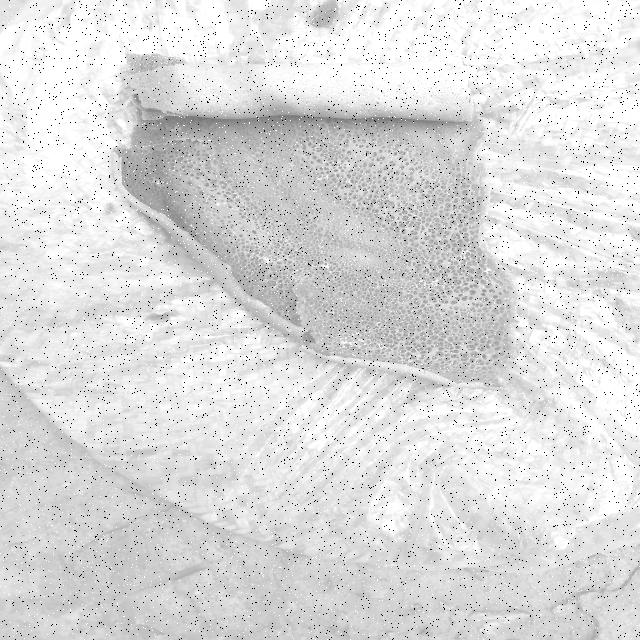injera_mold: (334, 334, 354, 351), (418, 278, 446, 290), (458, 246, 474, 266), (317, 261, 337, 275), (371, 321, 389, 335), (334, 161, 351, 175), (256, 254, 272, 267), (292, 269, 308, 282), (379, 347, 395, 360), (355, 337, 371, 349), (148, 176, 165, 187), (483, 262, 494, 278), (408, 352, 422, 364), (280, 238, 296, 247), (170, 124, 185, 132), (304, 328, 318, 336), (284, 162, 296, 171), (428, 355, 436, 368), (213, 199, 224, 208), (359, 352, 370, 361), (318, 174, 330, 182), (335, 350, 350, 356), (424, 100, 434, 108), (285, 327, 295, 334), (474, 346, 487, 351), (392, 328, 400, 336), (318, 243, 327, 250), (327, 310, 337, 316), (482, 354, 492, 359), (501, 361, 508, 368), (355, 226, 366, 230), (188, 223, 195, 229), (399, 249, 405, 255), (173, 190, 182, 194), (285, 313, 294, 317), (488, 381, 494, 386), (406, 297, 412, 302), (418, 330, 425, 334), (401, 316, 406, 321), (171, 168, 177, 170)
